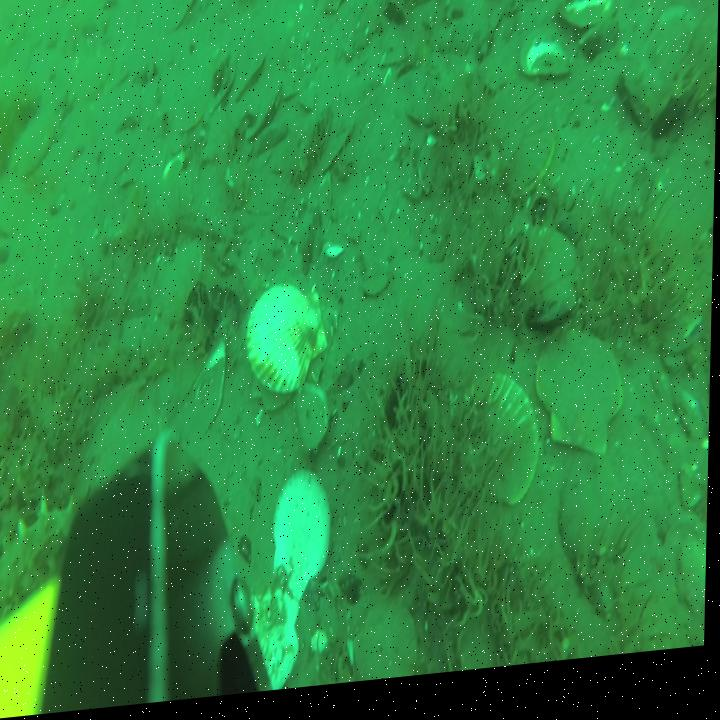holothurian: (0, 490, 79, 622), (490, 0, 556, 4)
scallop: (533, 337, 629, 479), (456, 379, 544, 523), (246, 282, 330, 413), (499, 230, 583, 344), (481, 89, 558, 213), (271, 476, 342, 608), (343, 598, 423, 691), (249, 587, 304, 699), (155, 243, 209, 332), (677, 547, 709, 644), (10, 119, 55, 185), (572, 0, 653, 7)
